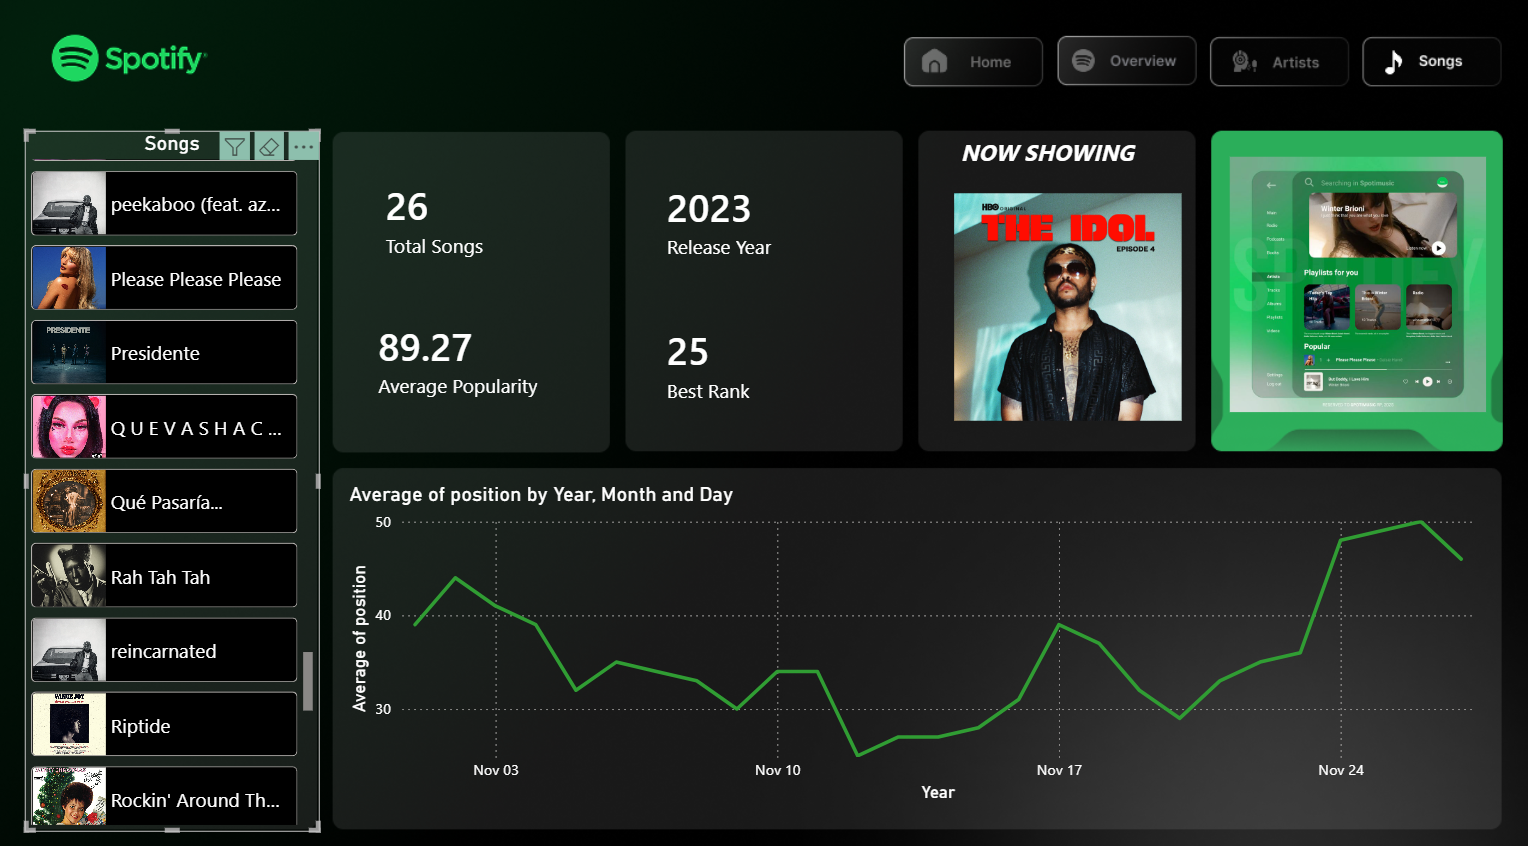

What the dashboard file says about the page in this screenshot:
{"tool":"powerbi","page":{"name":"Songs","canvas":[1280,720],"ordinal":2},"visuals":[{"type":"cardVisual","fields":{"Data":["_Measures.Best Rank"]},"box":[530.5,250.8,220.7,109.1],"z":0},{"type":"cardVisual","fields":{"Data":["_Measures.Average Popularity"]},"box":[289.7,250.8,220.7,101.6],"z":1000},{"type":"cardVisual","fields":{"Data":["Top-50-world.Release Year"]},"box":[530.5,126.7,217,117.9],"z":2000},{"type":"cardVisual","fields":{"Data":["_Measures.Total Songs"]},"box":[296,126.7,214.5,114.1],"z":3000},{"type":"image","box":[786.4,163,213.2,189.4],"z":4000},{"type":"textbox","box":[798.9,111.6,165.6,45.2],"z":5000},{"type":"advancedSlicerVisual","title":"Songs","fields":{"Values":["Top-50-world.song"]},"box":[23.8,111.6,245.8,584.4],"z":6000},{"type":"lineChart","fields":{"Y":["Avg(Top-50-world.position)"],"Category":["Top-50-world.date.Variation.Date Hierarchy.Year","Top-50-world.date.Variation.Date Hierarchy.Month","Top-50-world.date.Variation.Date Hierarchy.Day"]},"box":[289.7,403.8,955.7,272.2],"z":7000},{"type":"image","box":[1028.4,97.8,213.2,283.4],"z":7001}]}

Visuals, with their boxes in screenshot pixels (x1, y1, x2, y2), scaled from the page's 1280x720 canvas onto the 1528x846 screenshot:
cardVisual - _Measures.Best Rank: rect(633, 295, 897, 423)
cardVisual - _Measures.Average Popularity: rect(346, 295, 609, 414)
cardVisual - Top-50-world.Release Year: rect(633, 149, 892, 287)
cardVisual - _Measures.Total Songs: rect(353, 149, 609, 283)
image: rect(939, 192, 1193, 414)
textbox: rect(954, 131, 1151, 184)
"Songs" advancedSlicerVisual: rect(28, 131, 322, 818)
lineChart - Avg(Top-50-world.position) x Top-50-world.date.Variation.Date Hierarchy.Year: rect(346, 474, 1487, 794)
image: rect(1228, 115, 1482, 448)
